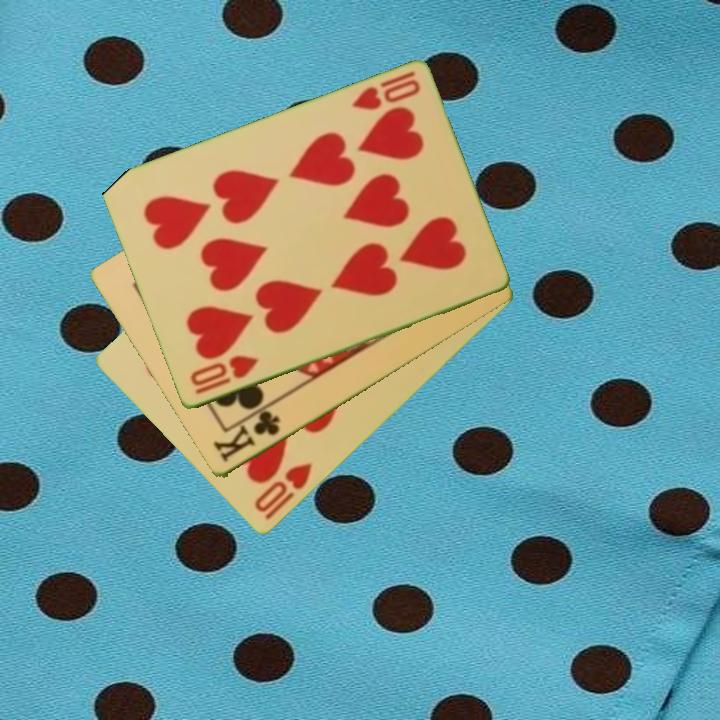10h: (250, 459, 316, 524), (347, 68, 424, 114), (186, 352, 261, 398)
Kc: (210, 407, 284, 467)
